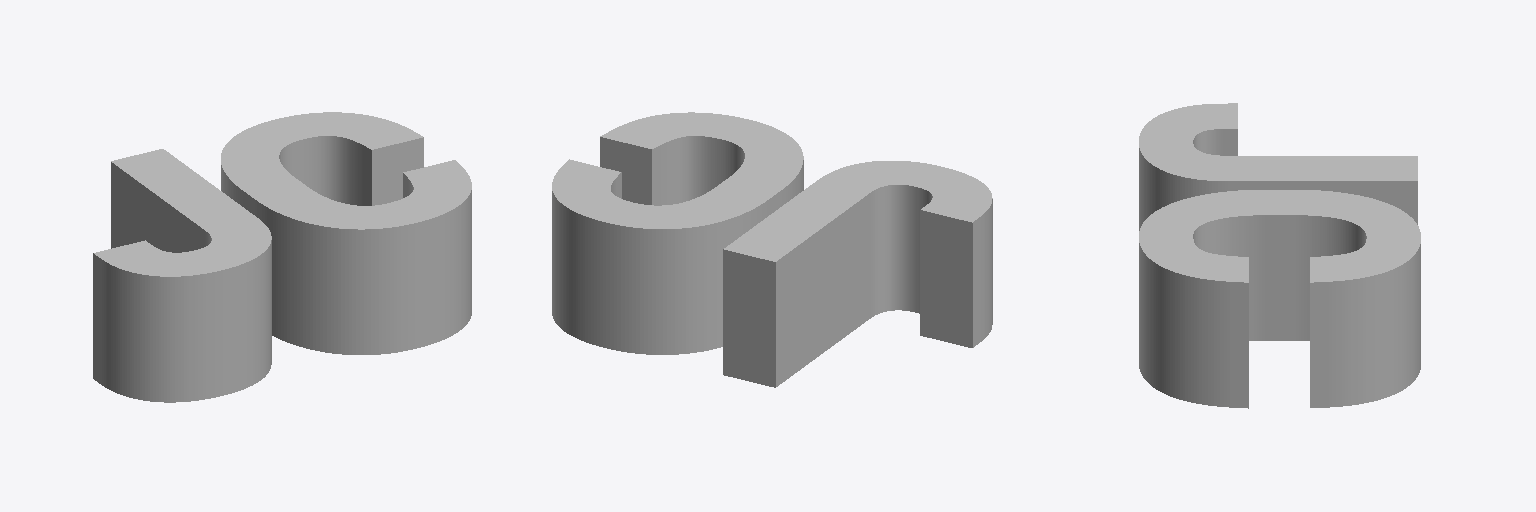
3 views of the same model, side by side, from view 1: azimuth 30°, elevation 25°; view 2: azimuth 150°, elevation 25°; view 3: azimuth 270°, elevation 25° (orthographic).
Visible parts, largest first — view 1: JC; view 2: JC; view 3: JC.
Part boxes in pixels (x1,y1,x2,y2): JC: (93,112,471,402); JC: (552,112,992,387); JC: (1139,103,1420,408).
Bounding box in the file's own units: 0.917 × 0.3 × 0.6104.